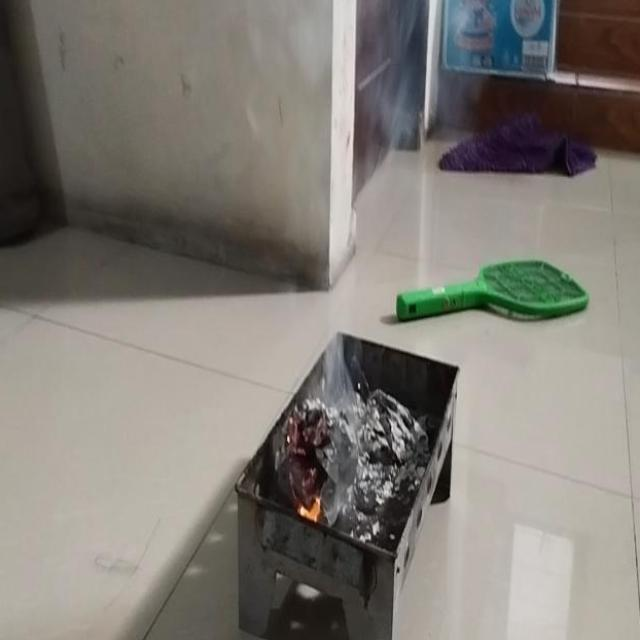fire: (363, 0, 472, 149), (311, 326, 362, 412)
smoke: (296, 492, 324, 526)
